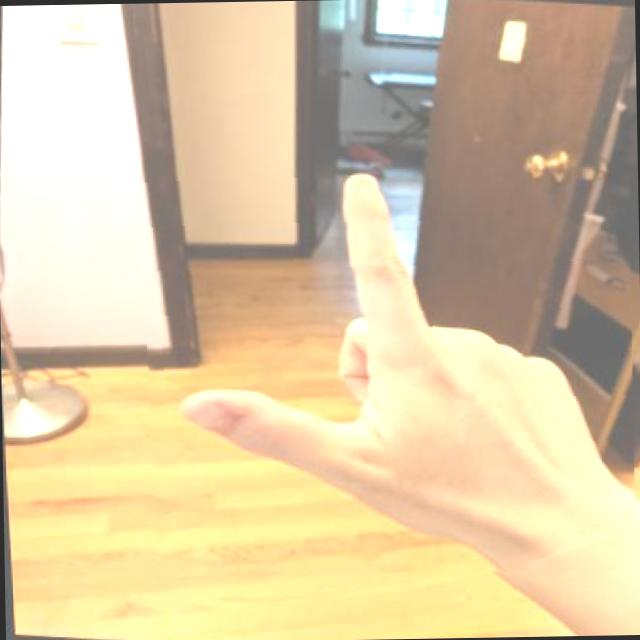L: (139, 147, 635, 578)
